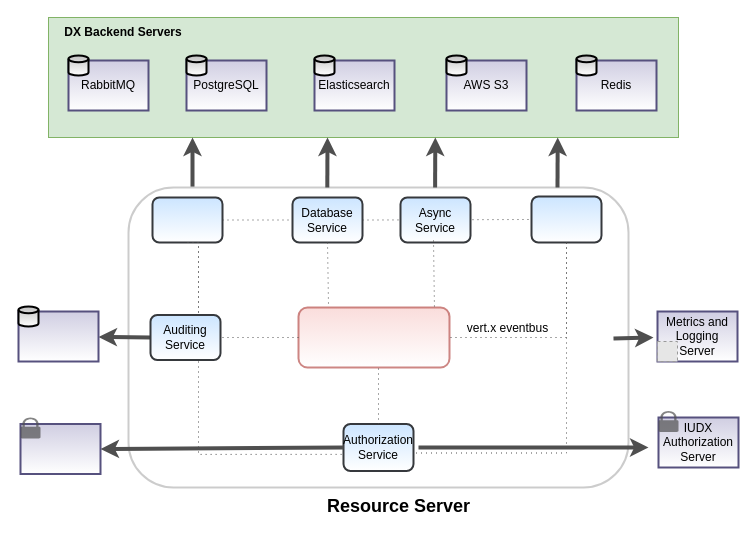
Image size: 756x535. Some labels were removed from this diagram. Grey dashed boxes stand in for pictures. The box of each missing label's shape, as (x1, y1, x2, y2) in pixels:
API Server: (297, 306, 450, 368)
Auditing Server: (17, 310, 99, 362)
DataBroker Service: (151, 196, 223, 243)
IUDX Catalogue Server: (19, 422, 101, 474)
Latest Service: (530, 195, 602, 243)
